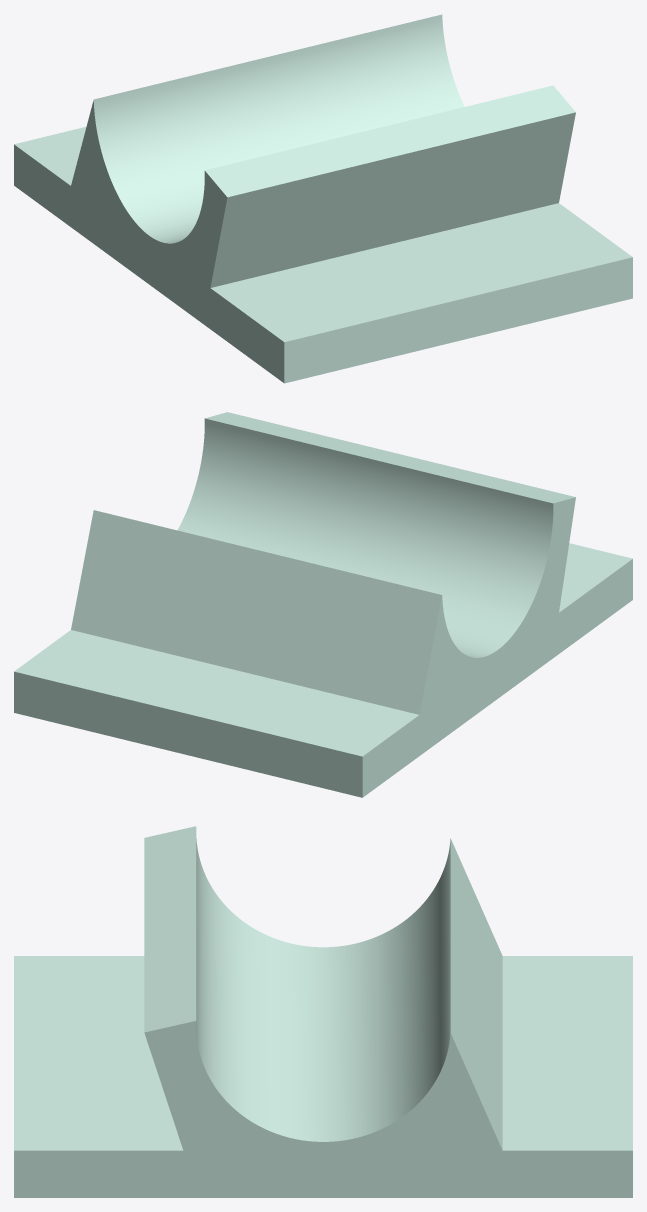
The picture shows the model from 3 angles, top to bottom: view 1: azimuth 30°, elevation 25°; view 2: azimuth 150°, elevation 25°; view 3: azimuth 270°, elevation 25°; orthographic projection. The views are drawn at different scales.
Parts seen in each view (by area): view 1: Renderer Node; view 2: Renderer Node; view 3: Renderer Node.
Part boxes in pixels (x1,y1,x2,y2): Renderer Node: [14, 14, 632, 383]; Renderer Node: [14, 412, 632, 797]; Renderer Node: [14, 826, 632, 1197].
Bounding box in the file's own units: 0.5 × 0.2122 × 0.6719.
